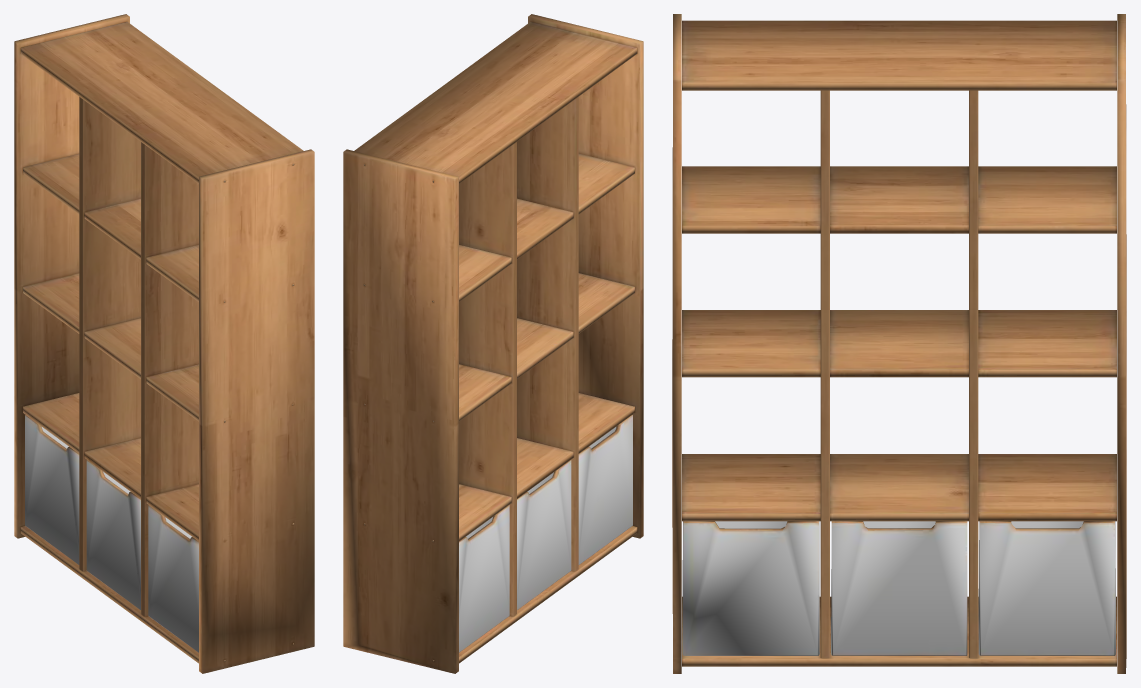
File: wooden_display_shelves_01.glb
3 renders of one model, left to right at view 1: azimuth 30°, elevation 25°; view 2: azimuth 150°, elevation 25°; view 3: azimuth 270°, elevation 25°, orthographic. The views are drawn at different scales.
Parts seen in each view (by area): view 1: wooden_display_shelves_01; view 2: wooden_display_shelves_01; view 3: wooden_display_shelves_01.
Boxes of the visible parts, x1=… form: wooden_display_shelves_01: x1=14, y1=14, x2=314, y2=673; wooden_display_shelves_01: x1=343, y1=14, x2=643, y2=673; wooden_display_shelves_01: x1=672, y1=14, x2=1126, y2=673.
Bounding box in the file's own units: 0.368 × 1.55 × 1.08.
Materials: 1 (1 with a texture image).
